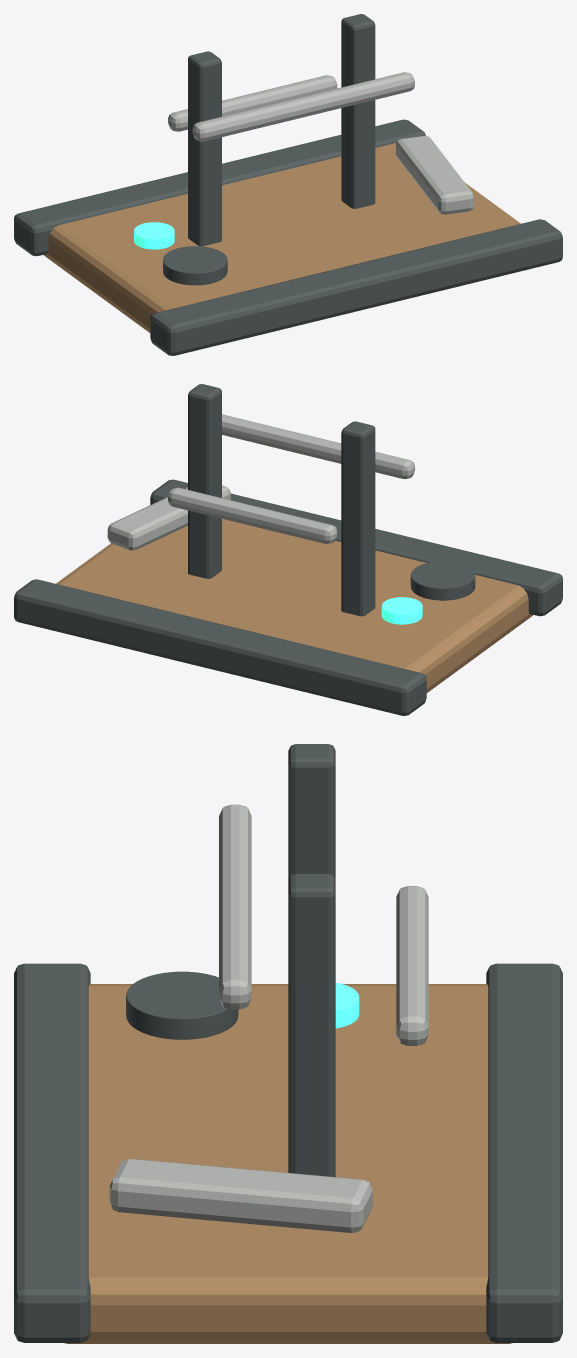
Rendered from launch_stand.glb.
The picture shows the model from 3 angles, top to bottom: view 1: azimuth 30°, elevation 25°; view 2: azimuth 150°, elevation 25°; view 3: azimuth 270°, elevation 25°; orthographic projection. The views are drawn at different scales.
Parts seen in each view (by area): view 1: Launch_Stand_Base, Launch_Stand_Front_Foot, Launch_Stand_Back_Foot, Launch_Stand_Right_Upright, Launch_Stand_Left_Upright, Launch_Stand_Soft_Cradle_A, Launch_Stand_Abstract_Lever, Launch_Stand_Soft_Cradle_B, Launch_Stand_Round_Button, Launch_Stand_Indicator_Lens; view 2: Launch_Stand_Base, Launch_Stand_Back_Foot, Launch_Stand_Left_Upright, Launch_Stand_Front_Foot, Launch_Stand_Right_Upright, Launch_Stand_Soft_Cradle_B, Launch_Stand_Soft_Cradle_A, Launch_Stand_Abstract_Lever, Launch_Stand_Round_Button, Launch_Stand_Indicator_Lens; view 3: Launch_Stand_Base, Launch_Stand_Back_Foot, Launch_Stand_Front_Foot, Launch_Stand_Right_Upright, Launch_Stand_Abstract_Lever, Launch_Stand_Soft_Cradle_A, Launch_Stand_Left_Upright, Launch_Stand_Round_Button, Launch_Stand_Soft_Cradle_B, Launch_Stand_Indicator_Lens.
Part boxes in pixels (left/top/right/bottom): Launch_Stand_Base: left=43, top=143, right=520, bottom=332; Launch_Stand_Front_Foot: left=150, top=219, right=562, bottom=355; Launch_Stand_Back_Foot: left=14, top=119, right=425, bottom=256; Launch_Stand_Right_Upright: left=341, top=14, right=375, bottom=208; Launch_Stand_Left_Upright: left=188, top=51, right=221, bottom=246; Launch_Stand_Soft_Cradle_A: left=192, top=72, right=414, bottom=141; Launch_Stand_Abstract_Lever: left=396, top=135, right=473, bottom=214; Launch_Stand_Soft_Cradle_B: left=168, top=75, right=337, bottom=131; Launch_Stand_Round_Button: left=163, top=246, right=227, bottom=285; Launch_Stand_Indicator_Lens: left=134, top=222, right=174, bottom=249; Launch_Stand_Base: left=56, top=519, right=532, bottom=692; Launch_Stand_Back_Foot: left=14, top=579, right=426, bottom=715; Launch_Stand_Left_Upright: left=341, top=421, right=375, bottom=616; Launch_Stand_Front_Foot: left=150, top=479, right=562, bottom=616; Launch_Stand_Right_Upright: left=188, top=384, right=221, bottom=578; Launch_Stand_Soft_Cradle_B: left=168, top=487, right=337, bottom=543; Launch_Stand_Soft_Cradle_A: left=222, top=414, right=414, bottom=479; Launch_Stand_Abstract_Lever: left=107, top=485, right=230, bottom=550; Launch_Stand_Round_Button: left=410, top=561, right=475, bottom=600; Launch_Stand_Indicator_Lens: left=381, top=597, right=422, bottom=624; Launch_Stand_Base: left=64, top=984, right=512, bottom=1343; Launch_Stand_Back_Foot: left=486, top=963, right=562, bottom=1342; Launch_Stand_Front_Foot: left=14, top=963, right=90, bottom=1342; Launch_Stand_Right_Upright: left=288, top=874, right=335, bottom=1177; Launch_Stand_Abstract_Lever: left=109, top=1159, right=372, bottom=1232; Launch_Stand_Soft_Cradle_A: left=219, top=804, right=251, bottom=1009; Launch_Stand_Left_Upright: left=288, top=744, right=335, bottom=880; Launch_Stand_Round_Button: left=126, top=971, right=238, bottom=1039; Launch_Stand_Soft_Cradle_B: left=396, top=886, right=428, bottom=1045; Launch_Stand_Indicator_Lens: left=335, top=983, right=359, bottom=1028.
Size of the model in its own units: 1.34 by 0.71 by 0.93.
